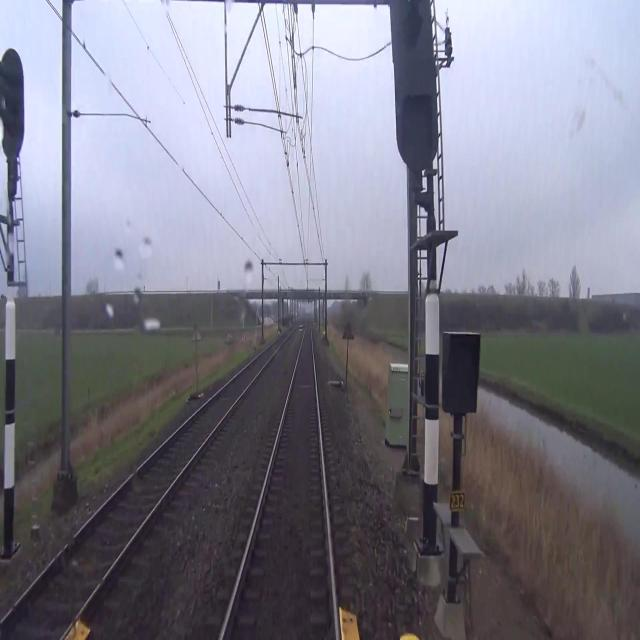rail-track: (0, 331, 289, 639), (223, 318, 334, 639)
